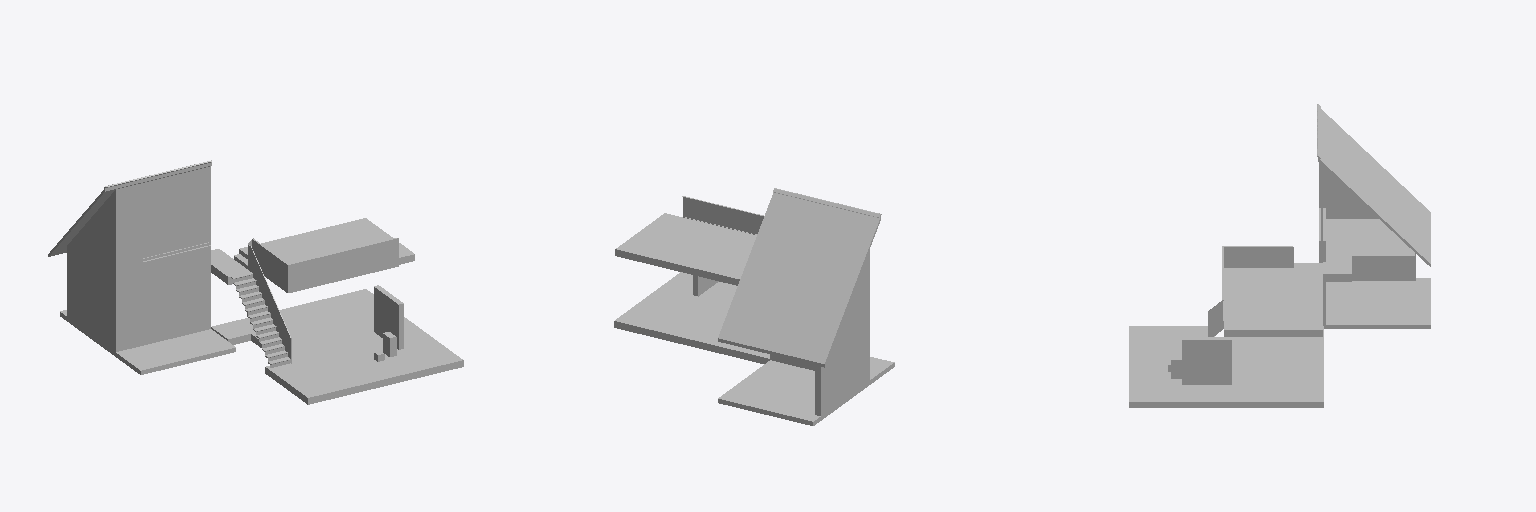
The model's file is CubeMur05.obj.
3 renders of one model, left to right at view 1: azimuth 30°, elevation 25°; view 2: azimuth 150°, elevation 25°; view 3: azimuth 270°, elevation 25°, orthographic.
Visible parts, largest first — view 1: UNITY_Bois_Blanc_Horizontal_Existant_2, UNITY_Plafond_Planche_Cedre, Blanc_Bois_Marche3, UNITY_Plafond_Planche_Large, UNITY_Teak_Pale, Aluminex_Glass, UNITY_Plafond_Planche_Cedre_Partie_Angle, Sol_par_défaut, UNITY_Aluminex_Frame, Blanc_Bois_Marche, UNITY_Gris, UNITY_Beton; view 2: UNITY_Taule_4"_90deg, UNITY_Plafond_Planche_Large, UNITY_Plafond_Planche_Cedre, UNITY_Bois_Blanc_Horizontal_Existant_2, UNITY_Plafond_Planche_Cedre_Partie_Angle, Blanc_Bois_Marche3, Sol_par_défaut, UNITY_Aluminex_Frame, UNITY_Gris; view 3: UNITY_Plafond_Planche_Large, UNITY_Plafond_Planche_Cedre, UNITY_Taule_4"_90deg, UNITY_Plafond_Planche_Cedre_Partie_Angle, UNITY_Gypsum_Wall_Board, UNITY_Brique, Blanc_Bois_Marche3, Sol_par_défaut, UNITY_Teak_Pale, UNITY_Peint_Blanc, Mur_par_défaut, Blanc_Bois_Marche.
Boxes of the visible parts, x1,y1,x2,y2 form: UNITY_Bois_Blanc_Horizontal_Existant_2: [67, 166, 210, 351]; UNITY_Plafond_Planche_Cedre: [212, 289, 462, 391]; Blanc_Bois_Marche3: [252, 238, 398, 292]; UNITY_Plafond_Planche_Large: [211, 218, 414, 276]; UNITY_Teak_Pale: [231, 254, 330, 397]; Aluminex_Glass: [143, 203, 208, 257]; UNITY_Plafond_Planche_Cedre_Partie_Angle: [60, 310, 235, 370]; Sol_par_défaut: [211, 327, 463, 404]; UNITY_Aluminex_Frame: [60, 202, 235, 374]; Blanc_Bois_Marche: [234, 238, 395, 363]; UNITY_Gris: [48, 162, 211, 256]; UNITY_Beton: [374, 287, 398, 349]; UNITY_Taule_4"_90deg: [718, 192, 879, 363]; UNITY_Plafond_Planche_Large: [615, 213, 756, 285]; UNITY_Plafond_Planche_Cedre: [615, 272, 769, 358]; UNITY_Bois_Blanc_Horizontal_Existant_2: [821, 250, 869, 415]; UNITY_Plafond_Planche_Cedre_Partie_Angle: [718, 357, 894, 421]; Blanc_Bois_Marche3: [683, 196, 763, 233]; Sol_par_défaut: [614, 321, 769, 363]; UNITY_Aluminex_Frame: [718, 363, 894, 425]; UNITY_Gris: [718, 218, 880, 367]; UNITY_Plafond_Planche_Large: [1224, 219, 1414, 336]; UNITY_Plafond_Planche_Cedre: [1129, 326, 1323, 401]; UNITY_Taule_4"_90deg: [1320, 109, 1430, 263]; UNITY_Plafond_Planche_Cedre_Partie_Angle: [1326, 278, 1430, 324]; UNITY_Gypsum_Wall_Board: [1319, 169, 1415, 280]; UNITY_Brique: [1182, 340, 1231, 384]; Blanc_Bois_Marche3: [1222, 246, 1292, 328]; Sol_par_défaut: [1129, 402, 1323, 407]; UNITY_Teak_Pale: [1129, 326, 1214, 336]; UNITY_Peint_Blanc: [1323, 256, 1414, 281]; Mur_par_défaut: [1182, 163, 1325, 339]; Blanc_Bois_Marche: [1208, 247, 1293, 336].
Size of the model in its own units: 39.93 by 25.43 by 39.54.